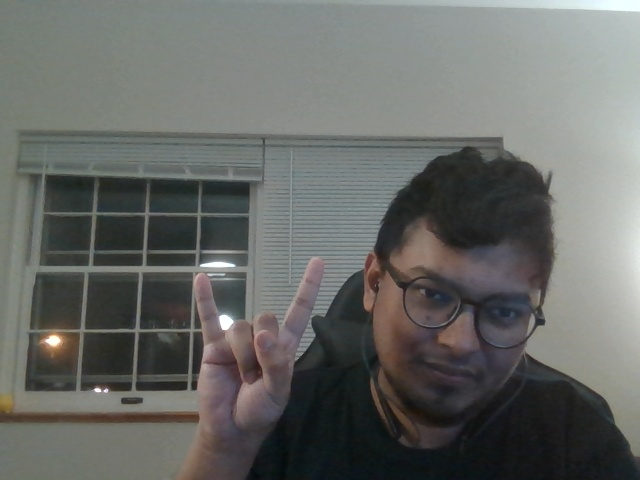ilikeyou: (182, 251, 329, 447)
